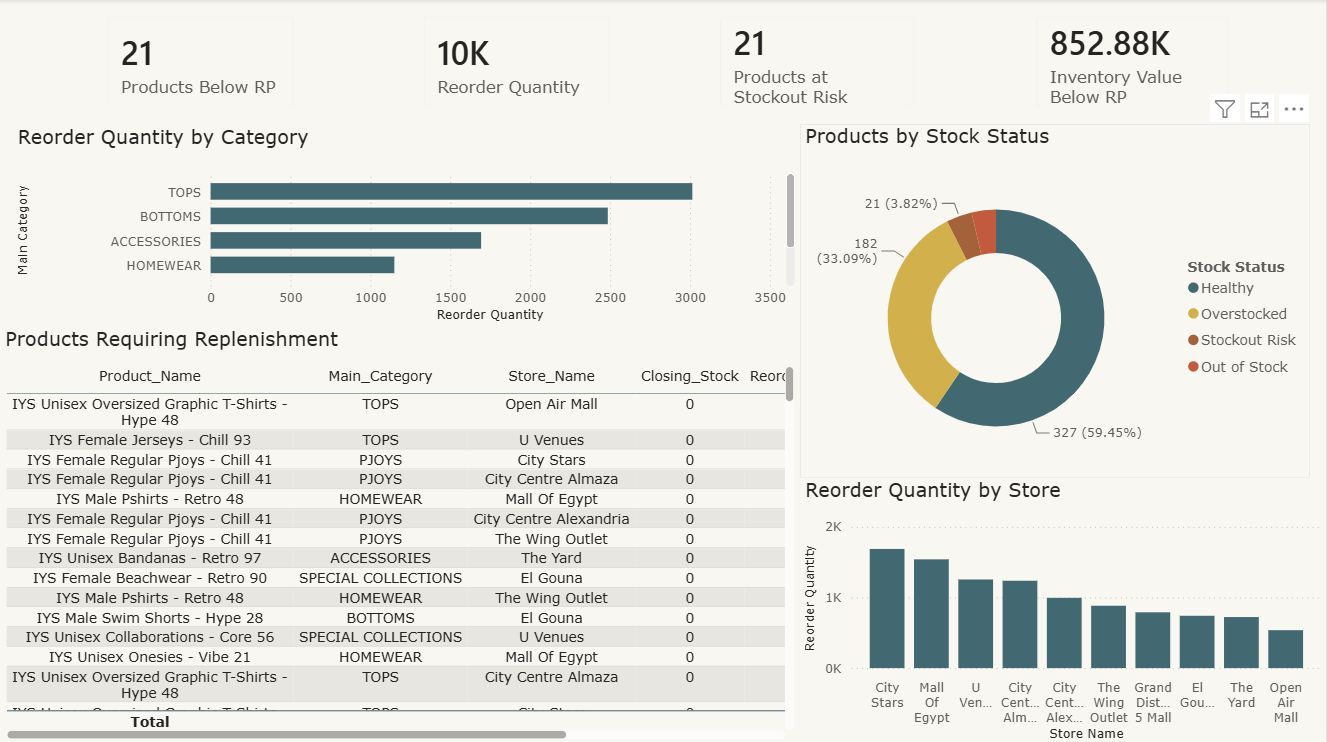

What the dashboard file says about the page in this screenshot:
{"tool":"powerbi","page":{"name":"Replenishment Analysis","canvas":[1280,720],"ordinal":1},"visuals":[{"type":"cardVisual","fields":{"Data":["Measures 1.Products Below Reorder Point"]},"box":[86.9,0,214,121.9],"z":0},{"type":"cardVisual","fields":{"Data":["Measures 1.Reorder Quantity"]},"box":[391.7,0,214,121.9],"z":1000},{"type":"cardVisual","fields":{"Data":["Measures 1.Products at Stockout Risk"]},"box":[678.4,0,221.8,121.9],"z":2000},{"type":"cardVisual","fields":{"Data":["Measures 1.Inventory Value Below Reorder"]},"box":[983.2,0,219.2,121.9],"z":3000},{"type":"donutChart","title":"Products by Stock Status","fields":{"Category":["Inventory_Snapshot.Stock_Status"],"Y":["Count(Inventory_Snapshot.Product_ID)"]},"box":[771.8,120.6,492.9,341.1],"z":6000},{"type":"clusteredBarChart","title":"Reorder Quantity by Category","fields":{"Category":["Products.Main_Category"],"Y":["Measures 1.Reorder Quantity"]},"box":[11.7,121.9,760.1,194.6],"z":7000},{"type":"tableEx","title":"Products Requiring Replenishment","fields":{"Values":["Products.Product_Name","Products.Main_Category","Stores.Store_Name","Inventory_Snapshot.Closing_Stock","Inventory_Snapshot.Reorder_Point","Measures 1.Reorder Quantity","Inventory_Snapshot.Stock_Status"]},"box":[0,316.5,771.8,403.4],"z":8000},{"type":"columnChart","title":"Reorder Quantity by Store","fields":{"Category":["Stores.Store_Name"],"Y":["Measures 1.Reorder Quantity"]},"box":[771.8,461.8,508.5,258.1],"z":9001}]}

Visuals, with their boxes in screenshot pixels (x1, y1, x2, y2), scaled from the page's 1280x720 canvas onto the 1327x742 screenshot:
cardVisual - Measures 1.Products Below Reorder Point: 90/0/312/126
cardVisual - Measures 1.Reorder Quantity: 406/0/628/126
cardVisual - Measures 1.Products at Stockout Risk: 703/0/933/126
cardVisual - Measures 1.Inventory Value Below Reorder: 1019/0/1247/126
"Products by Stock Status" donutChart: 800/124/1311/476
"Reorder Quantity by Category" clusteredBarChart: 12/126/800/326
"Products Requiring Replenishment" tableEx: 0/326/800/741
"Reorder Quantity by Store" columnChart: 800/476/1326/741
